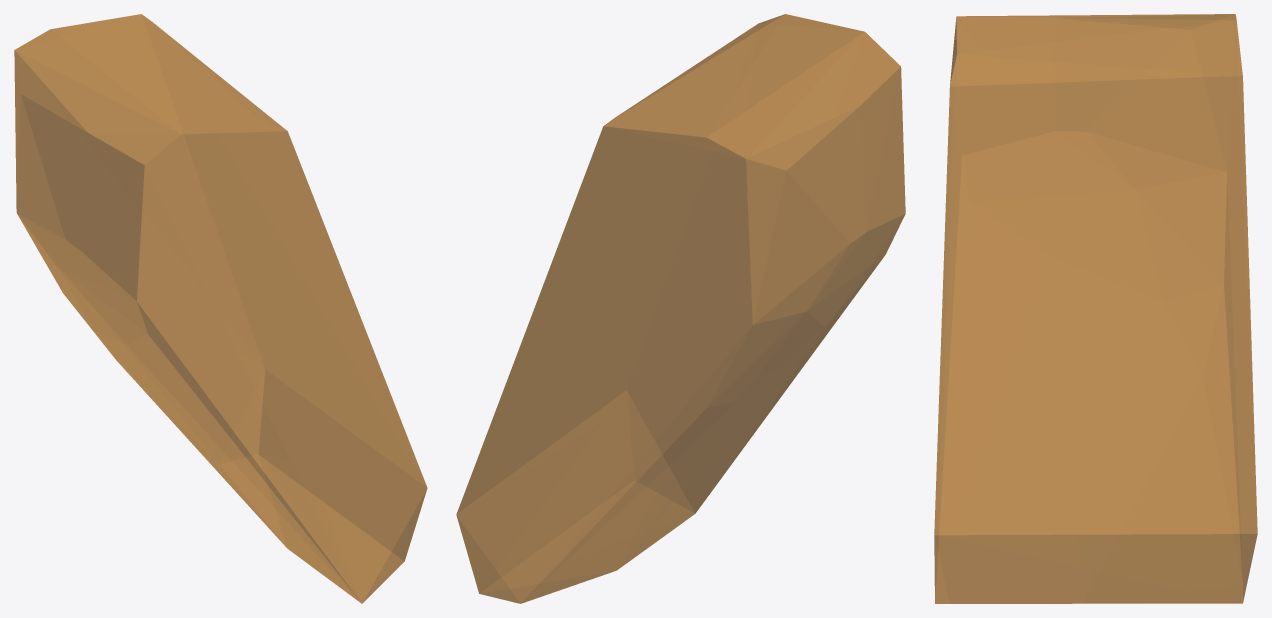
3 views of the same model, side by side, from view 1: azimuth 30°, elevation 25°; view 2: azimuth 150°, elevation 25°; view 3: azimuth 270°, elevation 25° (orthographic). The views are drawn at different scales.
Parts seen in each view (by area): view 1: Shape_IndexedFaceSet.011_Shape_IndexedFaceSet.16781; view 2: Shape_IndexedFaceSet.011_Shape_IndexedFaceSet.16781; view 3: Shape_IndexedFaceSet.011_Shape_IndexedFaceSet.16781.
Boxes of the visible parts, x1,y1,x2,y2 form: Shape_IndexedFaceSet.011_Shape_IndexedFaceSet.16781: [14, 14, 427, 603]; Shape_IndexedFaceSet.011_Shape_IndexedFaceSet.16781: [456, 14, 905, 603]; Shape_IndexedFaceSet.011_Shape_IndexedFaceSet.16781: [934, 14, 1257, 603].
Size of the model in its own units: 0.2207 by 0.3706 by 0.2152.
